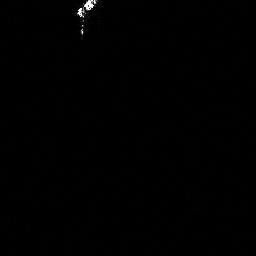ship: (74, 1, 99, 36)
